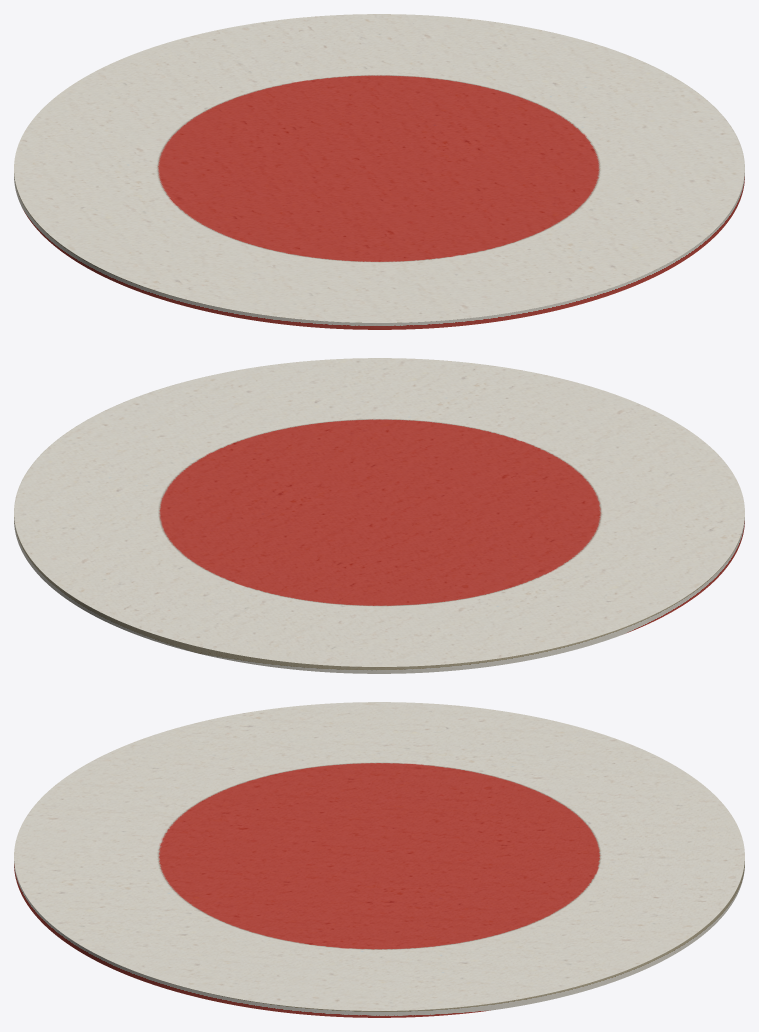
File: salotto_tappeto.fbx
3 views of the same model, one above another, from view 1: azimuth 30°, elevation 25°; view 2: azimuth 150°, elevation 25°; view 3: azimuth 270°, elevation 25° (orthographic).
Visible parts, largest first — view 1: tappeto; view 2: tappeto; view 3: tappeto.
Boxes of the visible parts, <box> form: tappeto: <box>14,14,744,329</box>; tappeto: <box>14,358,744,673</box>; tappeto: <box>14,702,744,1017</box>.
Size of the model in its own units: 120 by 1.25 by 120.
